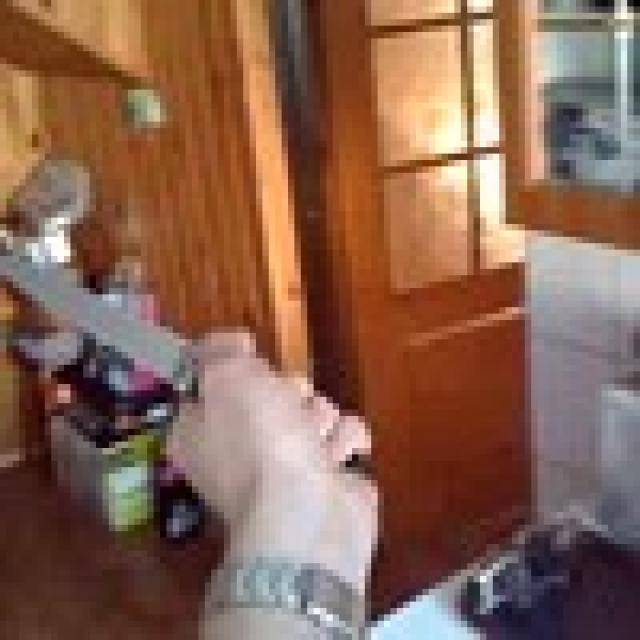Knife: (7, 250, 212, 410)
